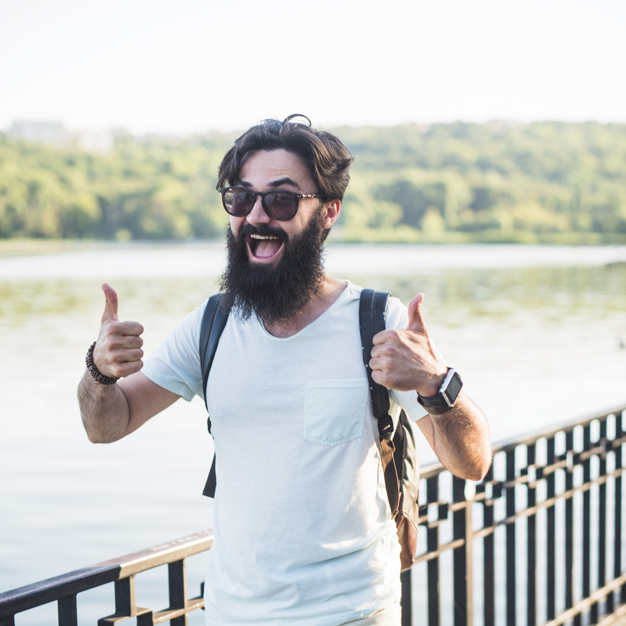thumbsup: (369, 293, 424, 388), (101, 282, 144, 377)
